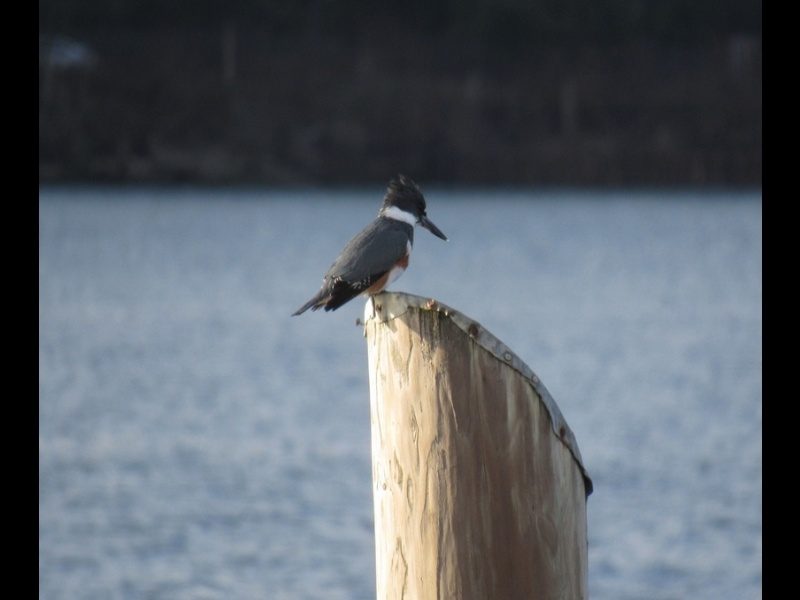kingfisher: (290, 170, 451, 319)
